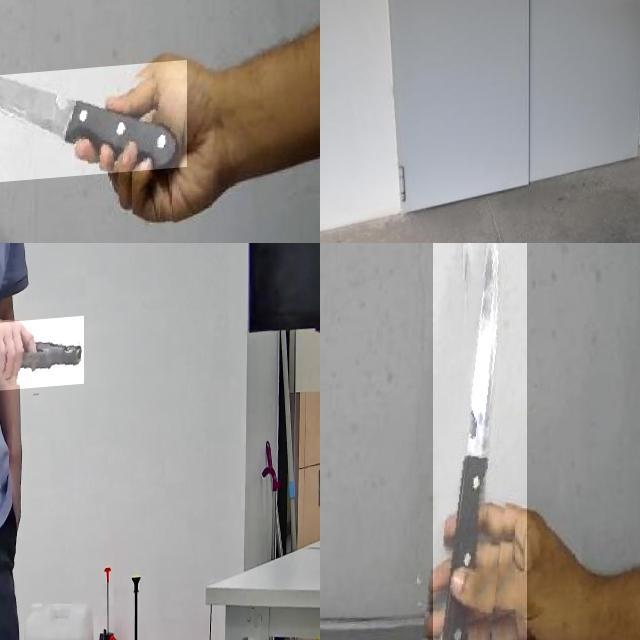-: (433, 243, 527, 640), (0, 67, 187, 188), (603, 0, 637, 12)
gun-knife-thesis - v11 Yolov5 augmented: (0, 321, 84, 396)
